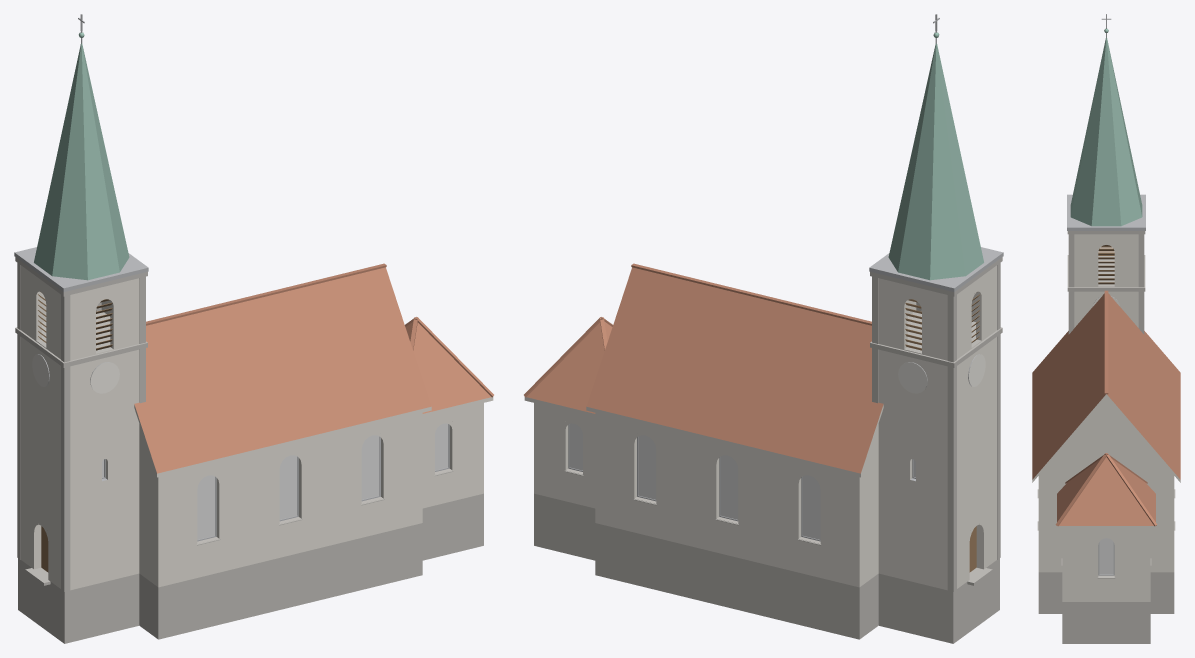
Rendered from church_needle_m.glb.
3 renders of one model, left to right at view 1: azimuth 30°, elevation 25°; view 2: azimuth 150°, elevation 25°; view 3: azimuth 270°, elevation 25°, orthographic. The views are drawn at different scales.
Visible parts, largest first — view 1: church_needle_m; view 2: church_needle_m; view 3: church_needle_m.
Boxes of the visible parts, left/top/right/bottom form: church_needle_m: left=14, top=14, right=493, bottom=643; church_needle_m: left=524, top=14, right=1003, bottom=643; church_needle_m: left=1032, top=14, right=1180, bottom=643.
Bounding box in the file's own units: 29.26 × 39.25 × 10.9.
